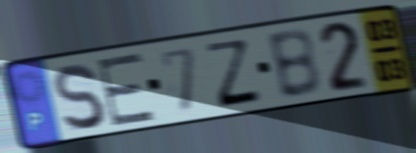2: (317, 18, 371, 95)
7: (159, 45, 198, 115)
B: (263, 25, 324, 103)
E: (94, 49, 158, 129)
S: (50, 61, 107, 135)
Z: (204, 38, 265, 111)
